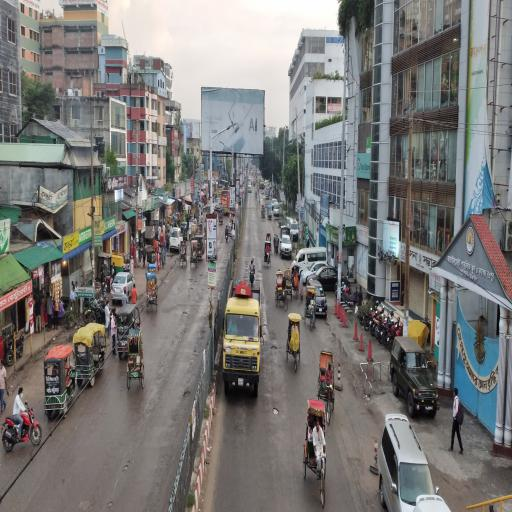ambulance: (290, 219, 300, 241)
army vehicle: (392, 338, 440, 416)
auto rickshaw: (44, 347, 78, 419), (77, 322, 107, 394), (118, 304, 141, 360), (197, 236, 206, 261), (219, 209, 225, 225), (268, 206, 273, 221), (254, 181, 256, 187)
bicycle: (78, 308, 96, 329), (256, 194, 258, 200), (260, 198, 261, 205)
bus: (221, 191, 231, 215), (218, 186, 226, 199)
car: (380, 410, 435, 512), (308, 267, 344, 292), (112, 272, 136, 304), (309, 281, 328, 319), (301, 262, 330, 284), (204, 204, 215, 213), (249, 188, 253, 193), (249, 183, 252, 188), (249, 177, 252, 181)
motorbike: (2, 410, 43, 451), (7, 337, 26, 366), (359, 305, 376, 327), (378, 322, 396, 342), (387, 332, 403, 354), (92, 299, 106, 323), (364, 310, 379, 331), (371, 317, 388, 335), (344, 291, 358, 308), (337, 289, 353, 303), (336, 284, 352, 296), (103, 275, 113, 293), (250, 260, 256, 286), (226, 224, 229, 242), (252, 182, 253, 187)
pickup: (281, 225, 293, 260), (266, 191, 270, 201)
rickshaw: (304, 399, 329, 508), (320, 349, 337, 426), (127, 330, 146, 391), (288, 314, 303, 372), (275, 273, 289, 309), (147, 274, 159, 314), (307, 288, 317, 333), (286, 270, 293, 300), (181, 242, 188, 270), (191, 242, 198, 268), (265, 242, 272, 266), (262, 208, 267, 222), (192, 226, 197, 239), (268, 234, 272, 248), (262, 205, 265, 219)
three wheelers (CNG): (182, 224, 188, 239)
truck: (225, 275, 260, 399), (260, 178, 265, 191)
van: (292, 248, 328, 281), (170, 228, 184, 253), (274, 202, 280, 216), (286, 217, 292, 229), (272, 199, 277, 210), (266, 185, 269, 192)
